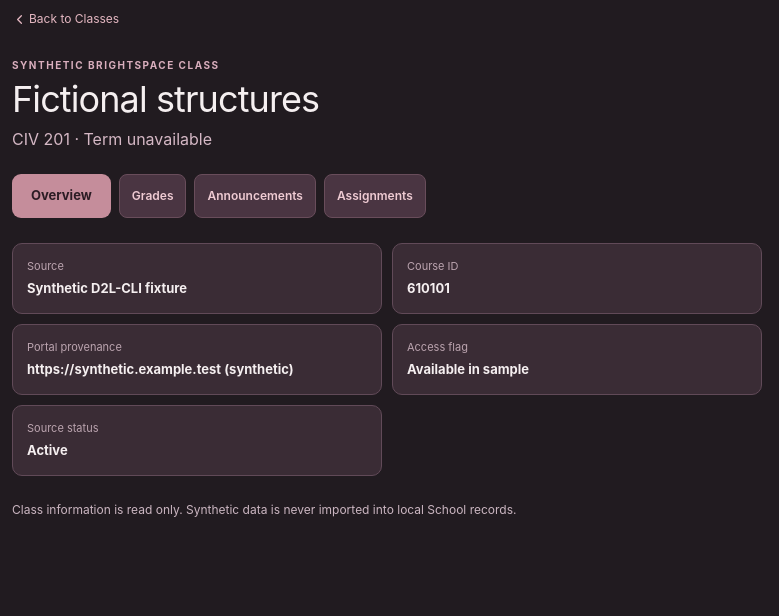
Test case: shows stale cached items after a failed course read, but no false empty claim
Click the button "Grades".
click(153, 196)  # box [119,174,186,218]
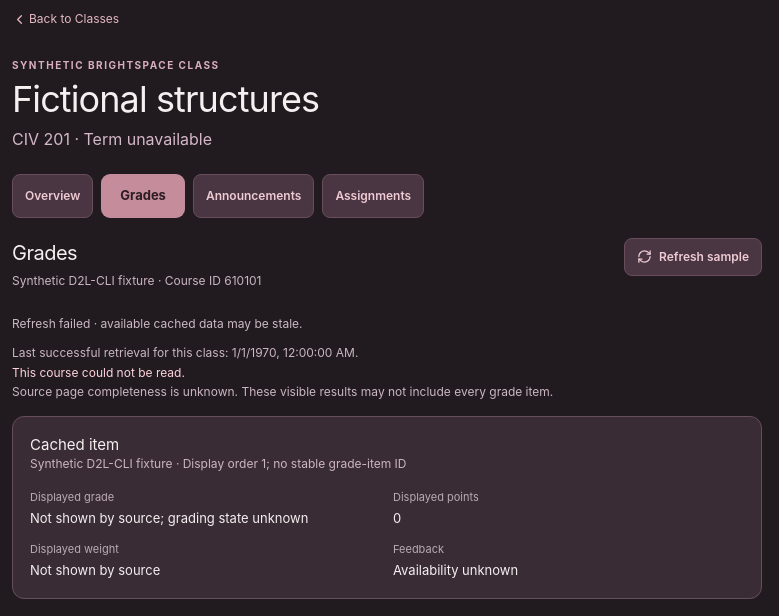
expect the heading "Cached item" is shown: met, box [30,435,119,454]
expect the text "Refresh failed · available cached data may be stale." is shown: met, box [12,316,302,331]
